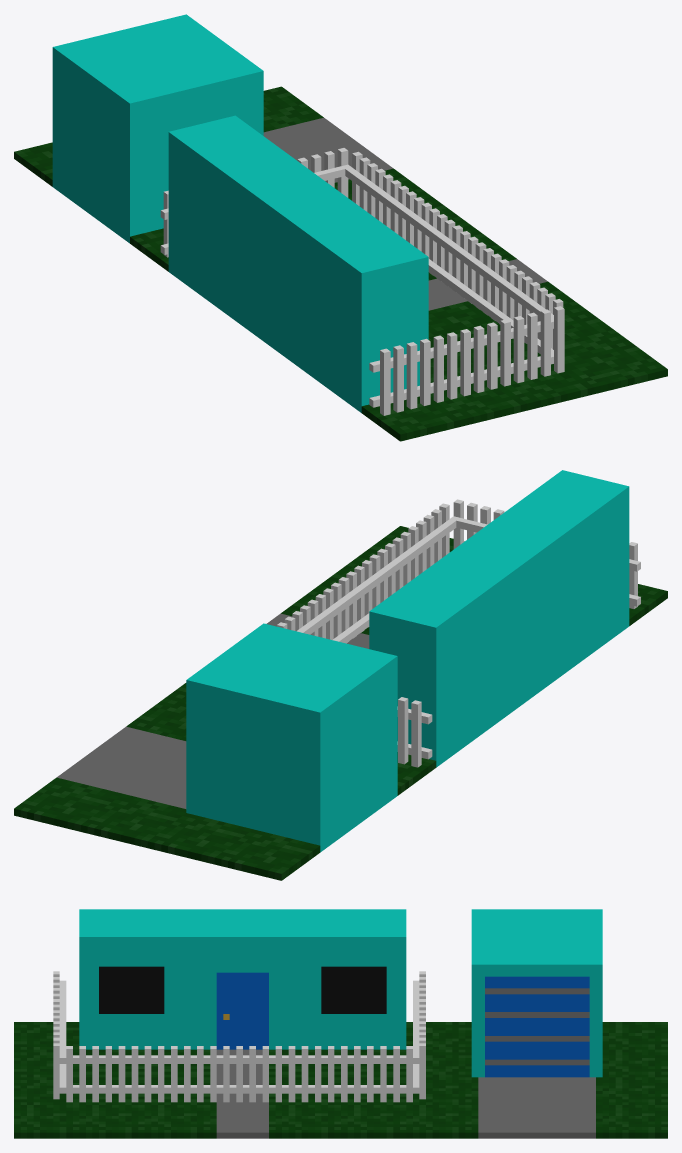
Rendered from house_light_blue.fbx.
The picture shows the model from 3 angles, top to bottom: view 1: azimuth 30°, elevation 25°; view 2: azimuth 150°, elevation 25°; view 3: azimuth 270°, elevation 25°; orthographic projection. The views are drawn at different scales.
Visible parts, largest first — view 1: Union; view 2: Union; view 3: Union.
Boxes of the visible parts, x1,y1,x2,y2 form: Union: (14, 14, 667, 441); Union: (14, 470, 667, 880); Union: (14, 909, 667, 1138).
Size of the model in its own units: 40 by 20 by 100.
